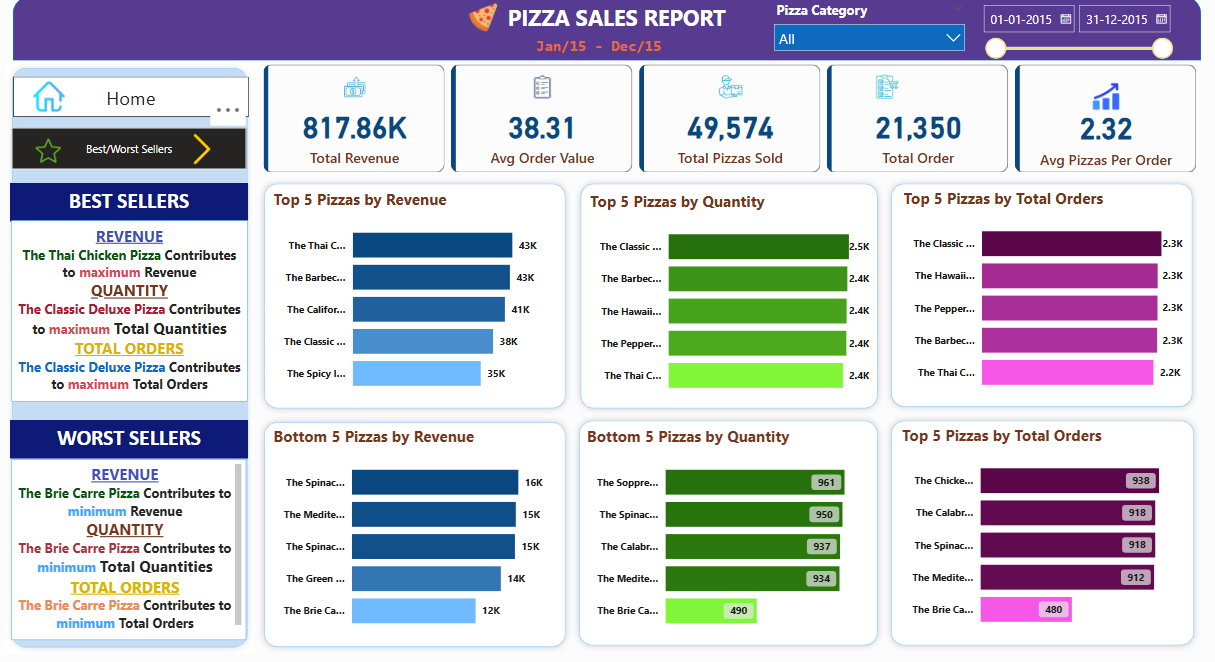

The page's visual inventory and layout, read from the dashboard file:
{"tool":"powerbi","page":{"name":"Best/Worst Sellers","canvas":[1500,820],"ordinal":1},"visuals":[{"type":"shape","box":[17.7,0,1460.4,78.1],"z":0},{"type":"cardVisual","fields":{"Data":["pizzadb pizza_sales.Total Revenue","pizzadb pizza_sales.Avg Order Value","pizzadb pizza_sales.Total Pizzas Sold","pizzadb pizza_sales.Total Order","pizzadb pizza_sales.Avg Pizzas Per Order"]},"box":[320.9,77.5,1160,143.8],"z":1000},{"type":"textbox","box":[597.5,1.8,326.4,47.9],"z":2000},{"type":"textbox","box":[656.5,44.3,188.1,33.2],"z":3000},{"type":"image","box":[570.4,1.9,53.7,46.3],"z":4000},{"type":"shape","box":[319.4,221.8,386.8,292.8],"z":5000},{"type":"shape","box":[9.4,79.2,305.7,728.3],"z":6000},{"type":"textbox","box":[15.1,228.3,292.5,47.2],"z":7000},{"type":"textbox","box":[17,275.5,290.6,222.6],"z":8000},{"type":"textbox","box":[15.1,520.8,292.5,47.2],"z":9000},{"type":"textbox","box":[17,567.9,288.7,222.6],"z":10000},{"type":"slicer","fields":{"Values":["pizzadb pizza_sales.pizza_category"]},"box":[944.2,0,254.5,77.5],"z":11000},{"type":"slicer","fields":{"Values":["pizzadb pizza_sales.order_date"]},"box":[1198.7,0,254.5,77.5],"z":12000},{"type":"shape","box":[708,221.8,381.5,292.8],"z":13000},{"type":"shape","box":[1090.6,220.8,386.8,290.6],"z":14000},{"type":"shape","box":[319.4,514.6,386.8,292.8],"z":15000},{"type":"shape","box":[706.2,512.8,383.3,292.8],"z":16000},{"type":"shape","box":[1089.5,512.8,388.6,292.8],"z":17000},{"type":"barChart","title":"Top 5 Pizzas by Revenue","fields":{"Category":["pizzadb pizza_sales.pizza_name"],"Y":["pizzadb pizza_sales.Total Revenue"]},"box":[334.4,237,354.3,263.5],"z":18000},{"type":"barChart","title":"Bottom 5 Pizzas by Revenue","fields":{"Category":["pizzadb pizza_sales.pizza_name"],"Y":["pizzadb pizza_sales.Total Revenue"]},"box":[334,528.3,352.8,264.2],"z":19000},{"type":"barChart","title":"Top 5 Pizzas by Quantity","fields":{"Category":["pizzadb pizza_sales.pizza_name"],"Y":["pizzadb pizza_sales.Total Pizzas Sold"]},"box":[722.6,237.7,352.8,264.2],"z":20000},{"type":"barChart","title":"Bottom 5 Pizzas by Quantity","fields":{"Category":["pizzadb pizza_sales.pizza_name"],"Y":["pizzadb pizza_sales.Total Pizzas Sold"]},"box":[718.9,528.3,352.8,264.2],"z":21000},{"type":"barChart","title":"Top 5 Pizzas by Total Orders","fields":{"Category":["pizzadb pizza_sales.pizza_name"],"Y":["pizzadb pizza_sales.Total Order"]},"box":[1107.5,234,352.8,264.2],"z":22000},{"type":"barChart","title":"Top 5 Pizzas by Total Orders","fields":{"Category":["pizzadb pizza_sales.pizza_name"],"Y":["pizzadb pizza_sales.Total Order"]},"box":[1105.7,526.4,352.8,264.2],"z":23000},{"type":"pageNavigator","box":[18.9,98.1,290.6,50.9],"z":24000},{"type":"pageNavigator","box":[16.6,160.4,289.5,51.6],"z":25000},{"type":"image","box":[218.9,162.3,62.3,49.1],"z":26000},{"type":"image","box":[32.1,98.1,62.3,49.1],"z":27000},{"type":"image","box":[30.2,167.9,64.2,41.5],"z":28000},{"type":"image","box":[1338.8,97.7,46.1,49.8],"z":29000}]}

Visuals, with their boxes in screenshot pixels (x1, y1, x2, y2), scaled from the page's 1500x820 canvas onto the 1215x662 screenshot:
shape: <region>14, 0, 1197, 63</region>
cardVisual - pizzadb pizza_sales.Total Revenue x pizzadb pizza_sales.Avg Order Value: <region>260, 63, 1200, 179</region>
textbox: <region>484, 1, 748, 40</region>
textbox: <region>532, 36, 684, 63</region>
image: <region>462, 2, 506, 39</region>
shape: <region>259, 179, 572, 415</region>
shape: <region>8, 64, 255, 652</region>
textbox: <region>12, 184, 249, 222</region>
textbox: <region>14, 222, 249, 402</region>
textbox: <region>12, 420, 249, 459</region>
textbox: <region>14, 458, 248, 638</region>
slicer - pizzadb pizza_sales.pizza_category: <region>765, 0, 971, 63</region>
slicer - pizzadb pizza_sales.order_date: <region>971, 0, 1177, 63</region>
shape: <region>573, 179, 882, 415</region>
shape: <region>883, 178, 1197, 413</region>
shape: <region>259, 415, 572, 652</region>
shape: <region>572, 414, 882, 650</region>
shape: <region>882, 414, 1197, 650</region>
"Top 5 Pizzas by Revenue" barChart: <region>271, 191, 558, 404</region>
"Bottom 5 Pizzas by Revenue" barChart: <region>271, 427, 556, 640</region>
"Top 5 Pizzas by Quantity" barChart: <region>585, 192, 871, 405</region>
"Bottom 5 Pizzas by Quantity" barChart: <region>582, 427, 868, 640</region>
"Top 5 Pizzas by Total Orders" barChart: <region>897, 189, 1183, 402</region>
"Top 5 Pizzas by Total Orders" barChart: <region>896, 425, 1181, 638</region>
pageNavigator: <region>15, 79, 251, 120</region>
pageNavigator: <region>13, 129, 248, 171</region>
image: <region>177, 131, 228, 171</region>
image: <region>26, 79, 76, 119</region>
image: <region>24, 136, 76, 169</region>
image: <region>1084, 79, 1122, 119</region>
